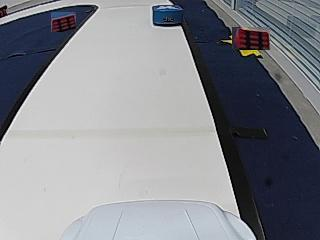prop: (153, 5, 183, 27)
